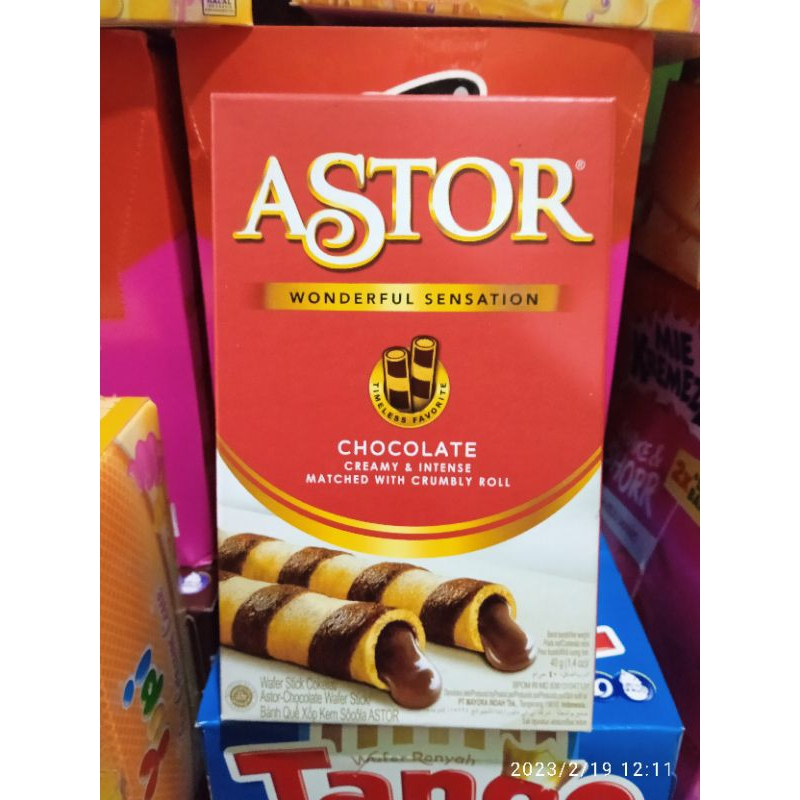Astor Chocolate (40g): (195, 85, 615, 739)
